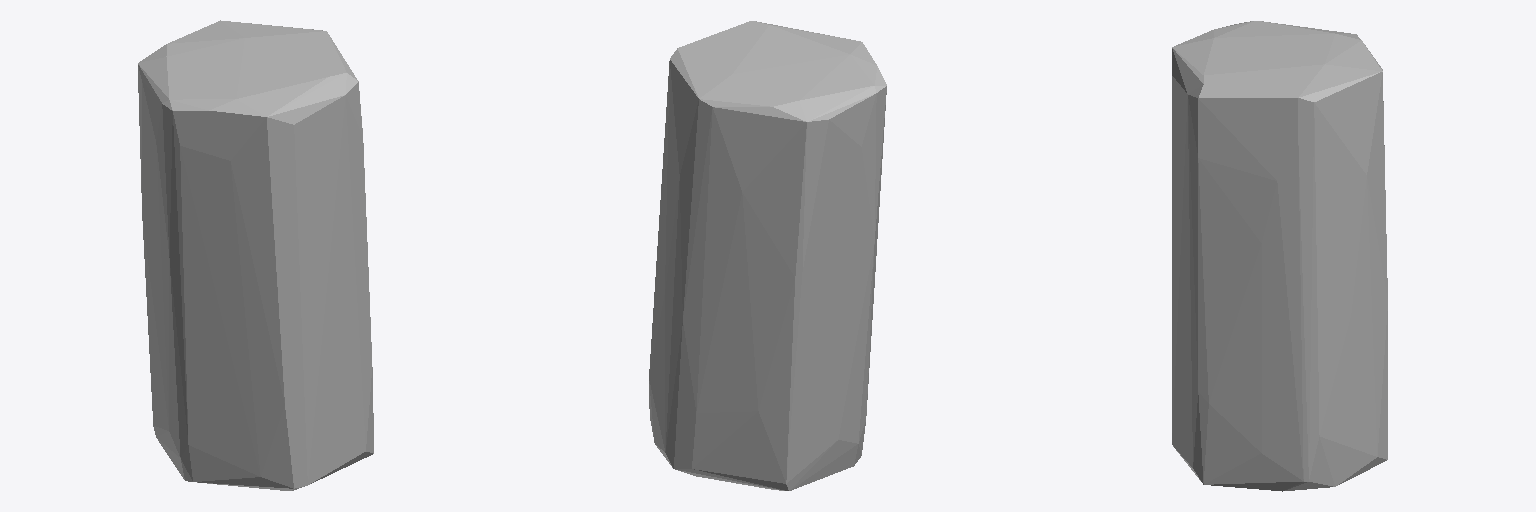
URDF robot description (root):
<robot name="root"><link name="link_KoalaCandy_800_tex_0000"><inertial><origin rpy="0 0 0" xyz="0 0 0" /><mass value="5.70E-01" /><inertia ixx="3.94E-04" ixy="-1.70E-07" ixz="1.61E-05" iyy="3.95E-04" iyz="3.52E-06" izz="1.24E-04" /></inertial><visual><origin rpy="0 0 0" xyz="0 0 0" /><geometry><mesh filename="package://KoalaCandy_800_tex/KoalaCandy_800_tex_0000.obj" /></geometry><material name=""><color rgba="0.75 0.75 0.75 1" /></material></visual><collision><origin rpy="0 0 0" xyz="0 0 0" /><geometry><mesh filename="package://KoalaCandy_800_tex/KoalaCandy_800_tex_0000.obj" /></geometry></collision></link></robot>

--- Facts derived from the render (not from the file) ---
3 views of the same robot in one strip: view 1: azimuth 30°, elevation 25°; view 2: azimuth 150°, elevation 25°; view 3: azimuth 270°, elevation 25° (orthographic).
Robot: root — 1 links, 0 joints (none); root link link_KoalaCandy_800_tex_0000; default pose: every joint at zero.
Visible links, largest first — view 1: link_KoalaCandy_800_tex_0000; view 2: link_KoalaCandy_800_tex_0000; view 3: link_KoalaCandy_800_tex_0000.
Boxes of the visible links, x1=… form: link_KoalaCandy_800_tex_0000: x1=138, y1=20, x2=373, y2=490; link_KoalaCandy_800_tex_0000: x1=649, y1=21, x2=886, y2=490; link_KoalaCandy_800_tex_0000: x1=1172, y1=21, x2=1387, y2=491.
Bounding box of the posed robot: 0.0465 × 0.0423 × 0.0858 m (x, y, z).
Meshes: 1 distinct files referenced, 1 mesh visuals loaded (1 OBJ).